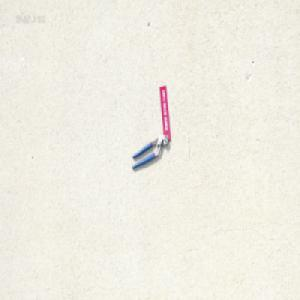Label: (159, 85, 171, 140)
Pliers: (131, 133, 168, 169)
